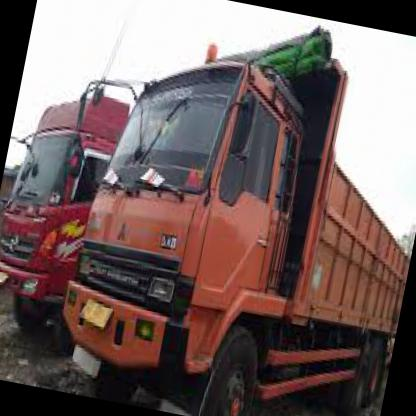truck: (51, 35, 323, 416), (1, 78, 134, 344)
